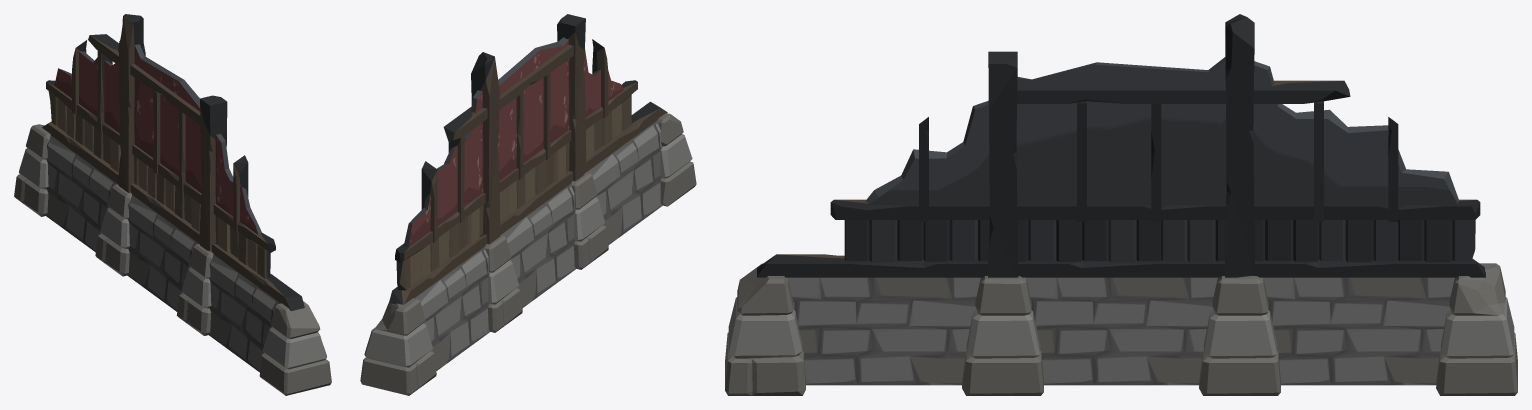
The model's file is SM_Prop_Destroyed_House_Piece_05_Burnt.fbx.
3 views of the same model, side by side, from view 1: azimuth 30°, elevation 25°; view 2: azimuth 150°, elevation 25°; view 3: azimuth 270°, elevation 25° (orthographic). The views are drawn at different scales.
Visible parts, largest first — view 1: SM_Prop_Destroyed_House_Piece_05_Burnt; view 2: SM_Prop_Destroyed_House_Piece_05_Burnt; view 3: SM_Prop_Destroyed_House_Piece_05_Burnt.
Part boxes in pixels (left/top/right/bottom): SM_Prop_Destroyed_House_Piece_05_Burnt: left=14, top=14, right=331, bottom=395; SM_Prop_Destroyed_House_Piece_05_Burnt: left=360, top=14, right=696, bottom=395; SM_Prop_Destroyed_House_Piece_05_Burnt: left=725, top=14, right=1517, bottom=395.
Size of the model in its own units: 85.25 by 420 by 836.
Materials: 1 (1 with a texture image).
